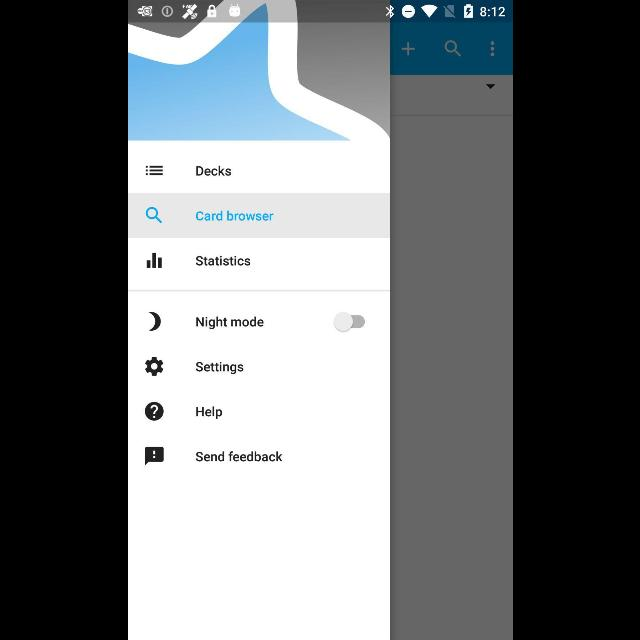icon: (144, 446, 164, 466), (144, 402, 164, 421), (145, 356, 163, 376), (144, 206, 162, 224), (444, 41, 461, 58), (146, 253, 162, 269), (145, 166, 163, 177), (402, 42, 414, 56), (490, 42, 494, 58), (486, 85, 494, 89)
image: (148, 312, 160, 331)
panel: (128, 22, 388, 640)
switch: (332, 312, 364, 332)
text: (195, 210, 273, 222), (195, 316, 263, 329), (195, 452, 282, 462), (195, 362, 243, 374), (194, 256, 250, 266), (196, 166, 230, 177), (196, 406, 222, 419)
uppertaskbar: (128, 1, 512, 23)
